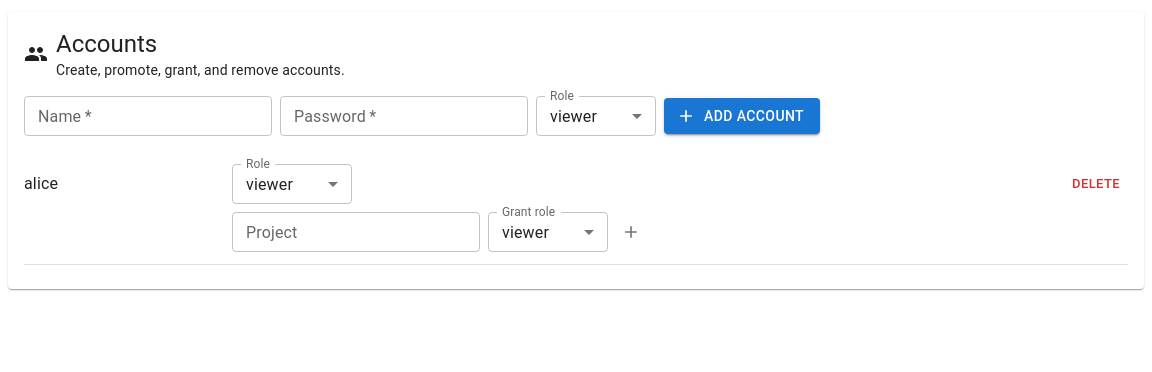
Scenario: a failed role change surfaces the error and leaves the row unchanged
This screenshot has width=1152, height=372.
Click the dropdown named "Role" at (270, 184), box 246,174 -> 293,194
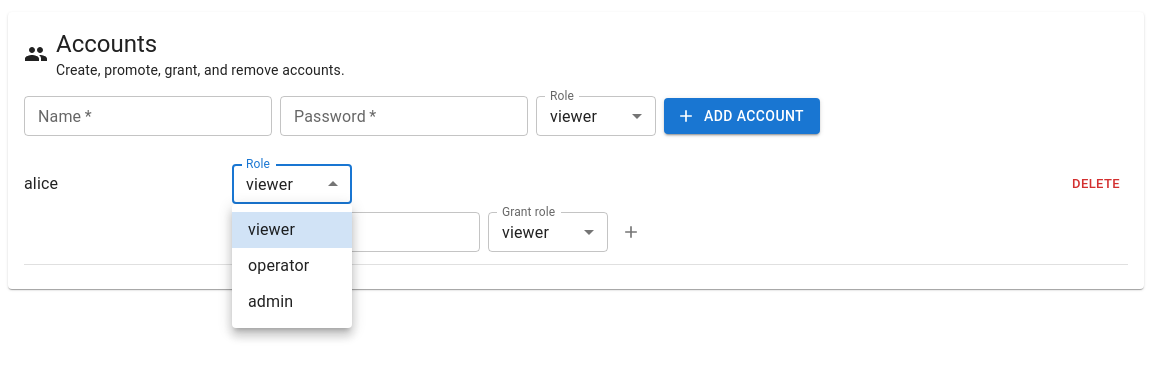
Click the option "admin" at (271, 302), box 248,292 -> 293,311
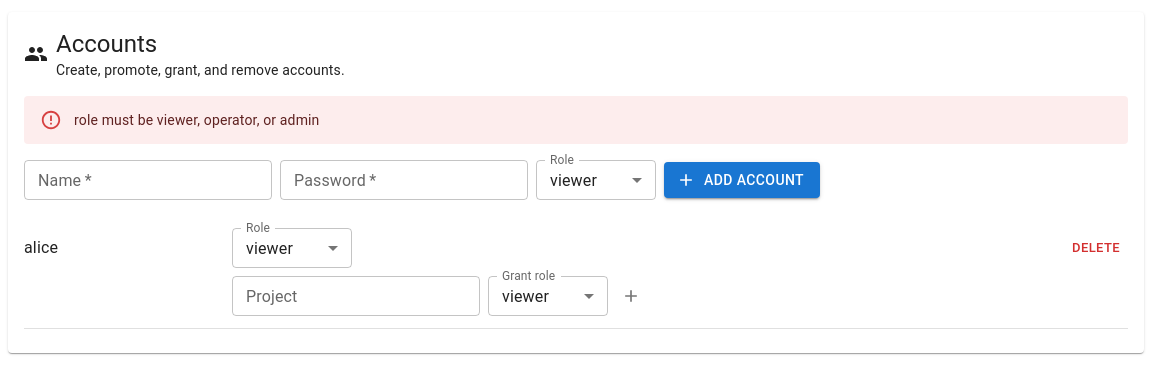
Expected: the dropdown labelled "viewer" in the row of "Password" is shown, 550,170 -> 597,190
Expected: the text "role must be viewer, operator, or admin" is shown, 74,112 -> 320,128
